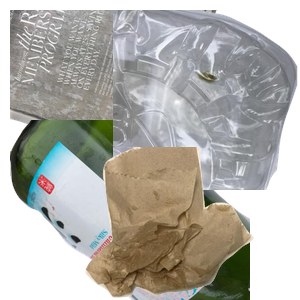glass: (10, 120, 250, 300)
paper: (10, 10, 222, 176)
plastic: (113, 10, 300, 190)
trash: (83, 147, 300, 300)
